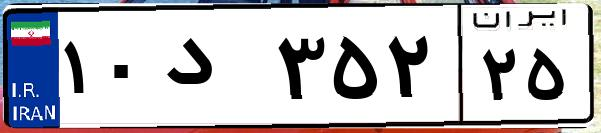0: (110, 28, 158, 98)
1: (57, 26, 110, 100)
2: (385, 28, 445, 110), (475, 38, 525, 113)
3: (270, 28, 330, 110)
5: (330, 28, 385, 110), (525, 38, 570, 115)
د: (158, 20, 270, 120)
